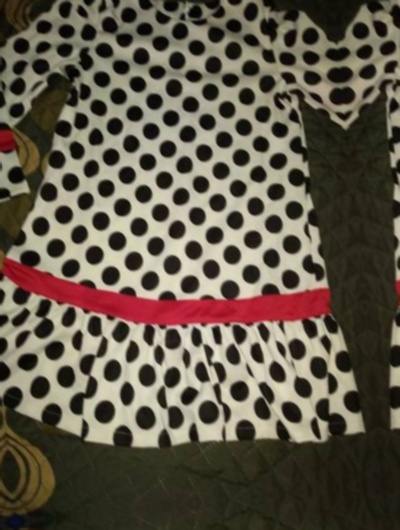Dress: (0, 0, 379, 487), (329, 0, 400, 449), (33, 517, 400, 530), (388, 479, 400, 530)
